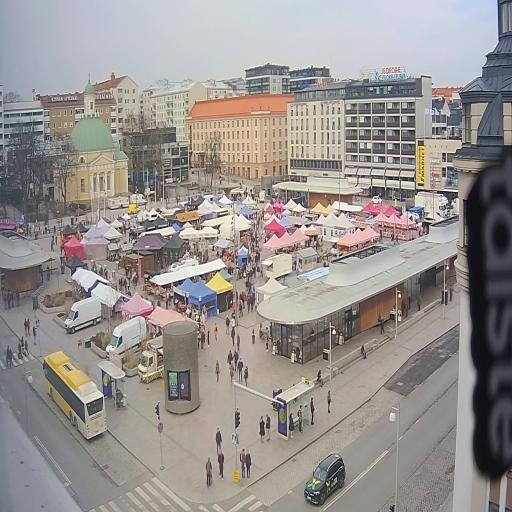bus: (40, 347, 115, 450)
car: (304, 446, 350, 508)
delivery: (104, 310, 150, 368), (63, 292, 104, 335), (408, 191, 450, 221), (130, 190, 146, 207), (126, 199, 141, 215)
